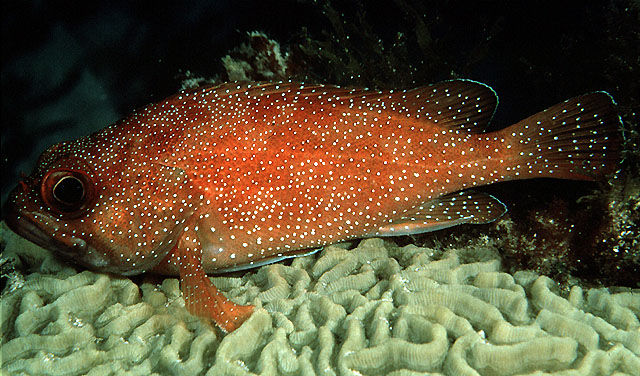fish: (4, 77, 626, 327)
